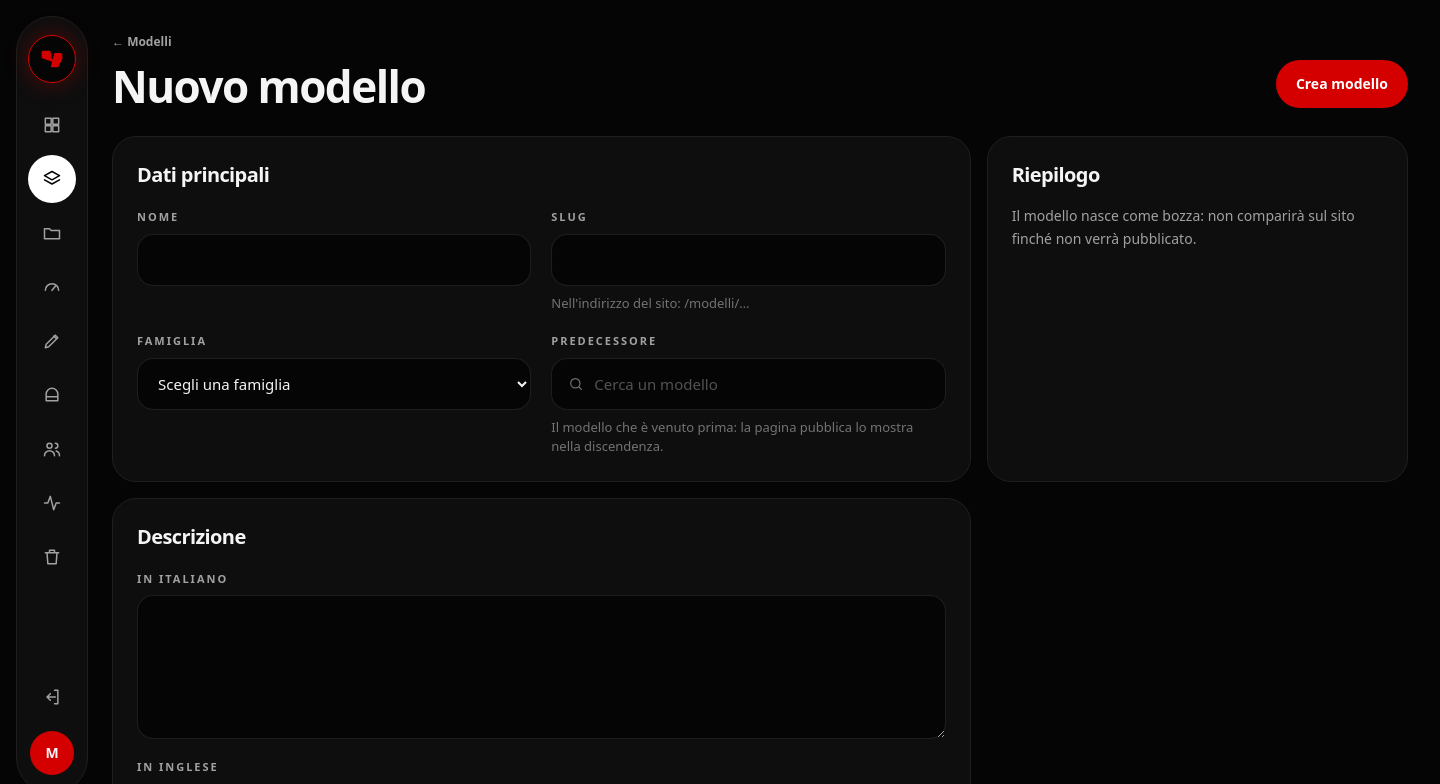
Test: crea un modello, e porta alla sua pagina in bozza
Step 1. Type "Testarossa" into the field labelled "Nome" → (334, 260), box [154,234,514,284]
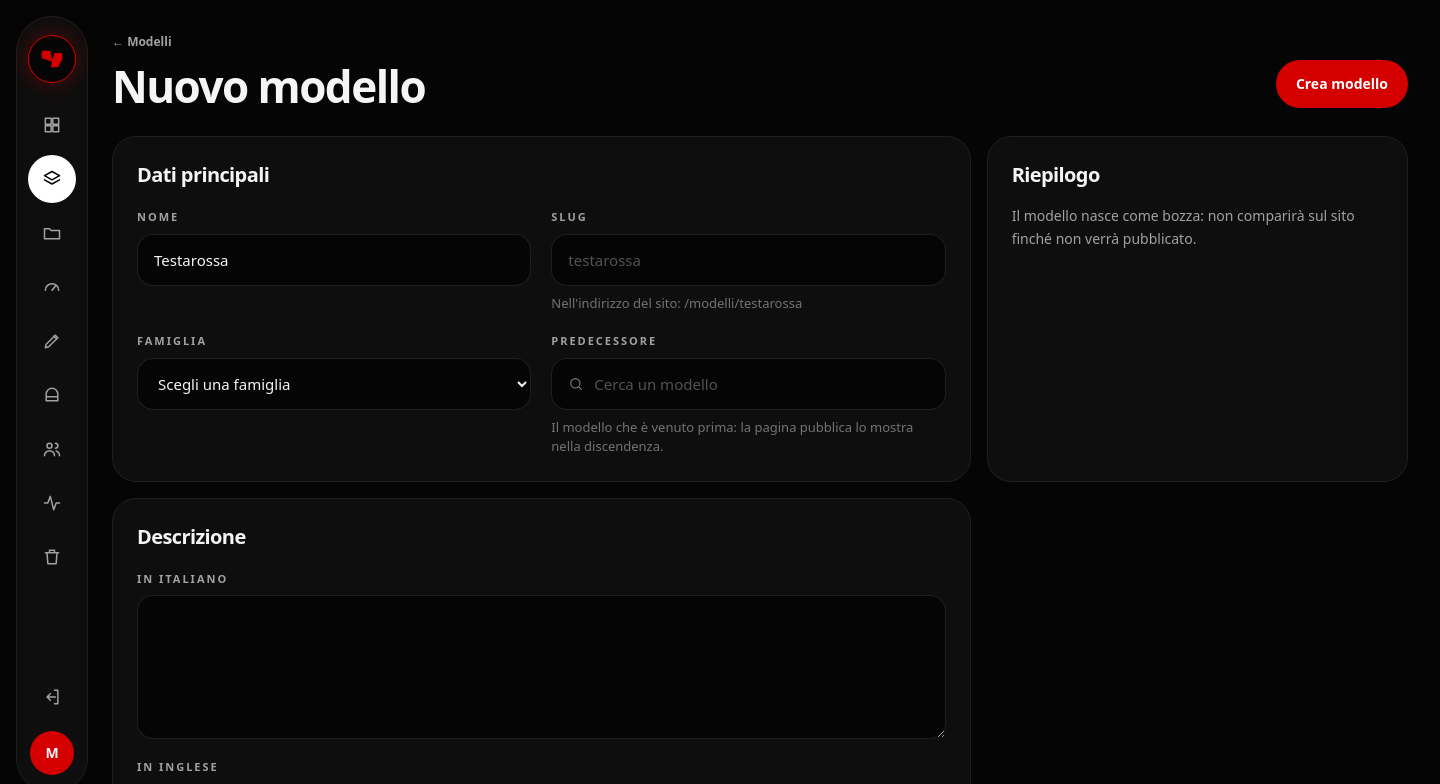
Now the text "Nell'indirizzo del sito: /modelli/testarossa" is shown, box [551,294,802,312]
Step 2. Select "Sportive" in the dropdown labelled "Famiglia" → (334, 384), box [137,358,531,410]
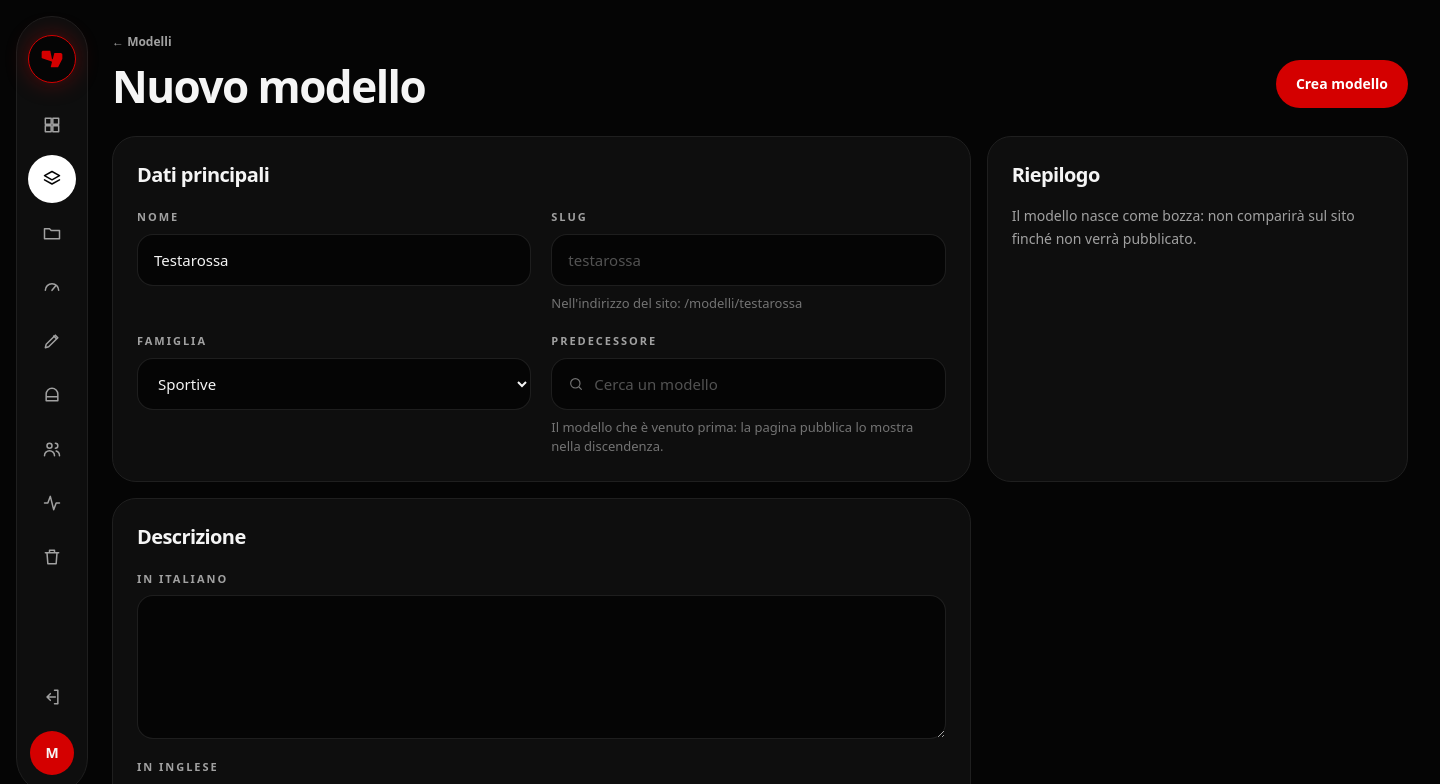
Step 3. Type "La berlinetta degli anni Ottanta." into the text box labelled "In italiano" → (541, 667), box [137,595,946,739]
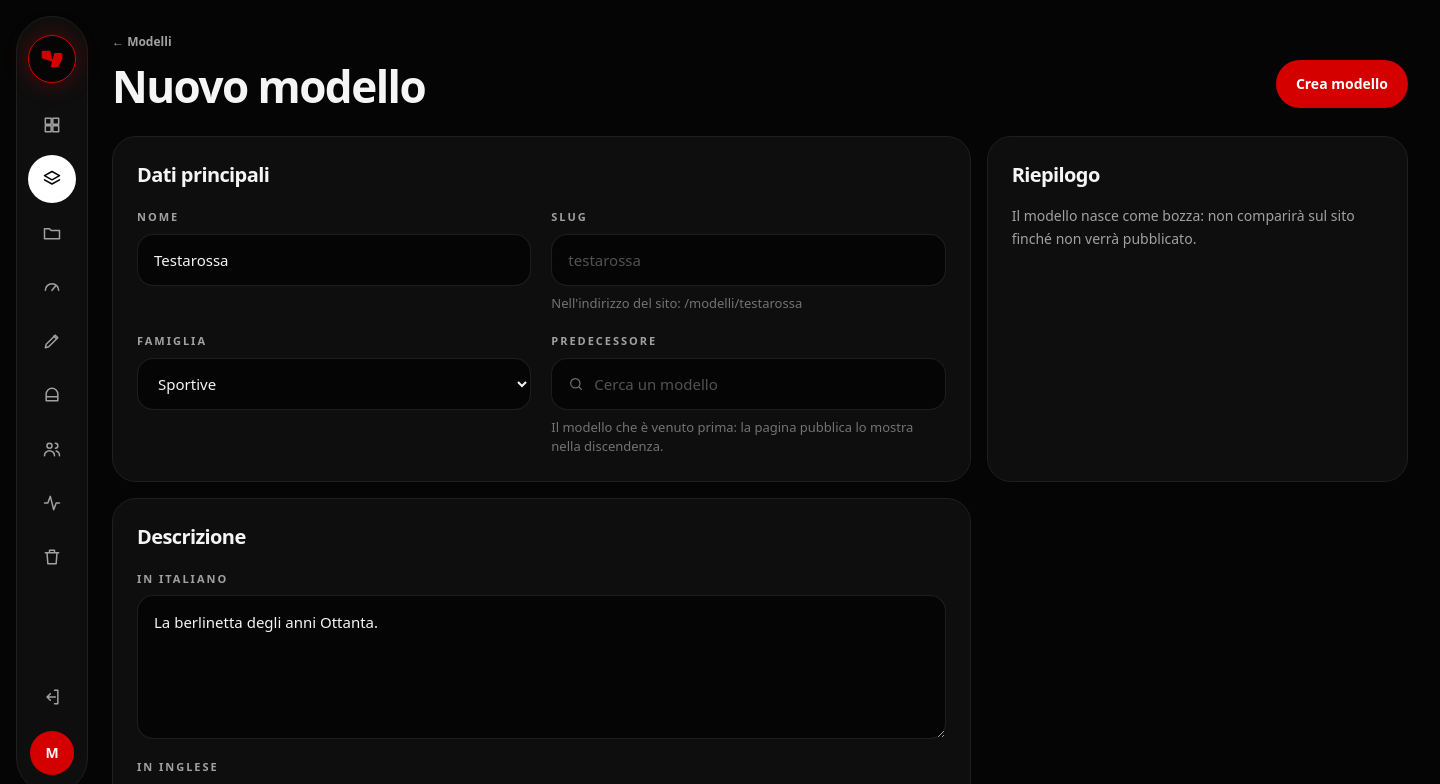
Step 4. Click the button "Crea modello" → (1342, 84), box [1276,60,1408,108]
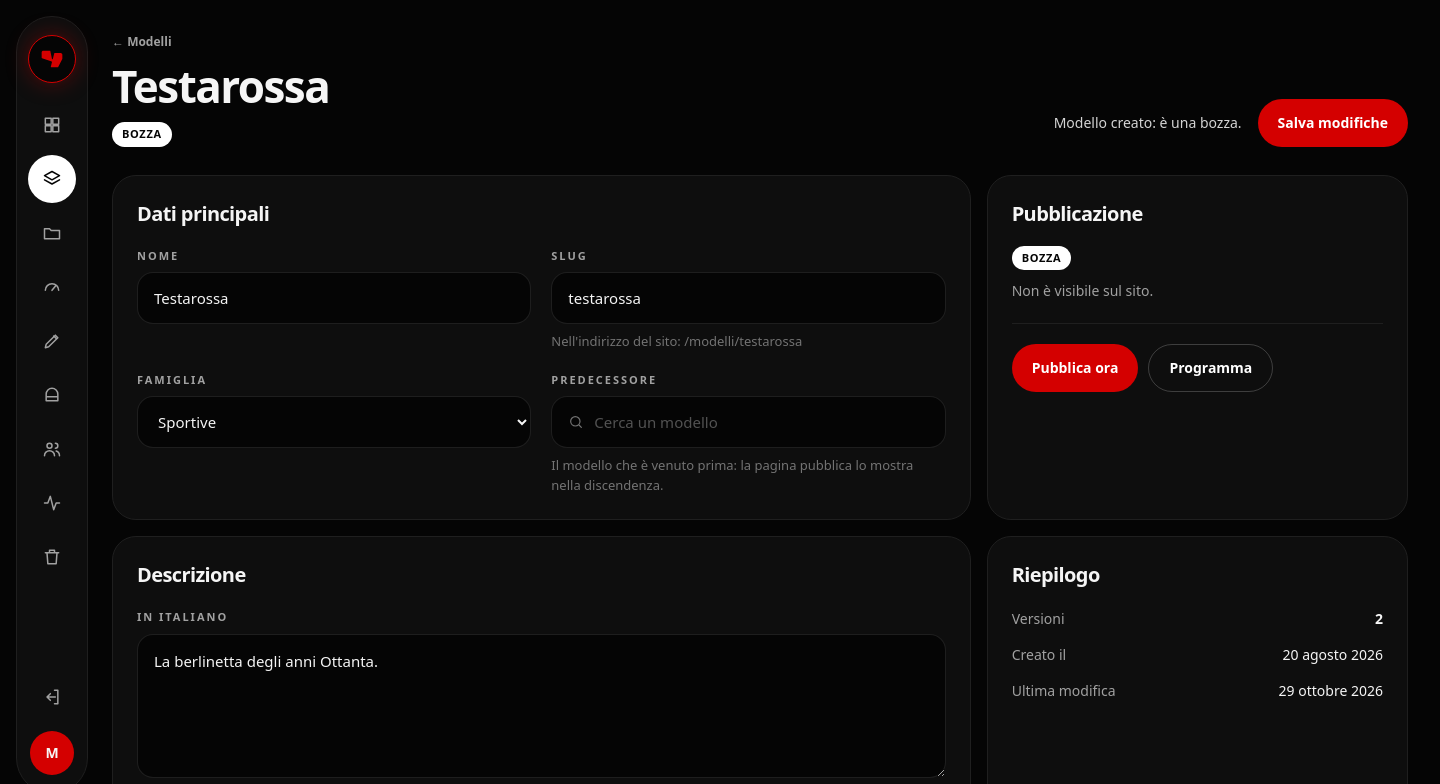
Now the heading "Testarossa" is shown, box [112,64,329,108]
